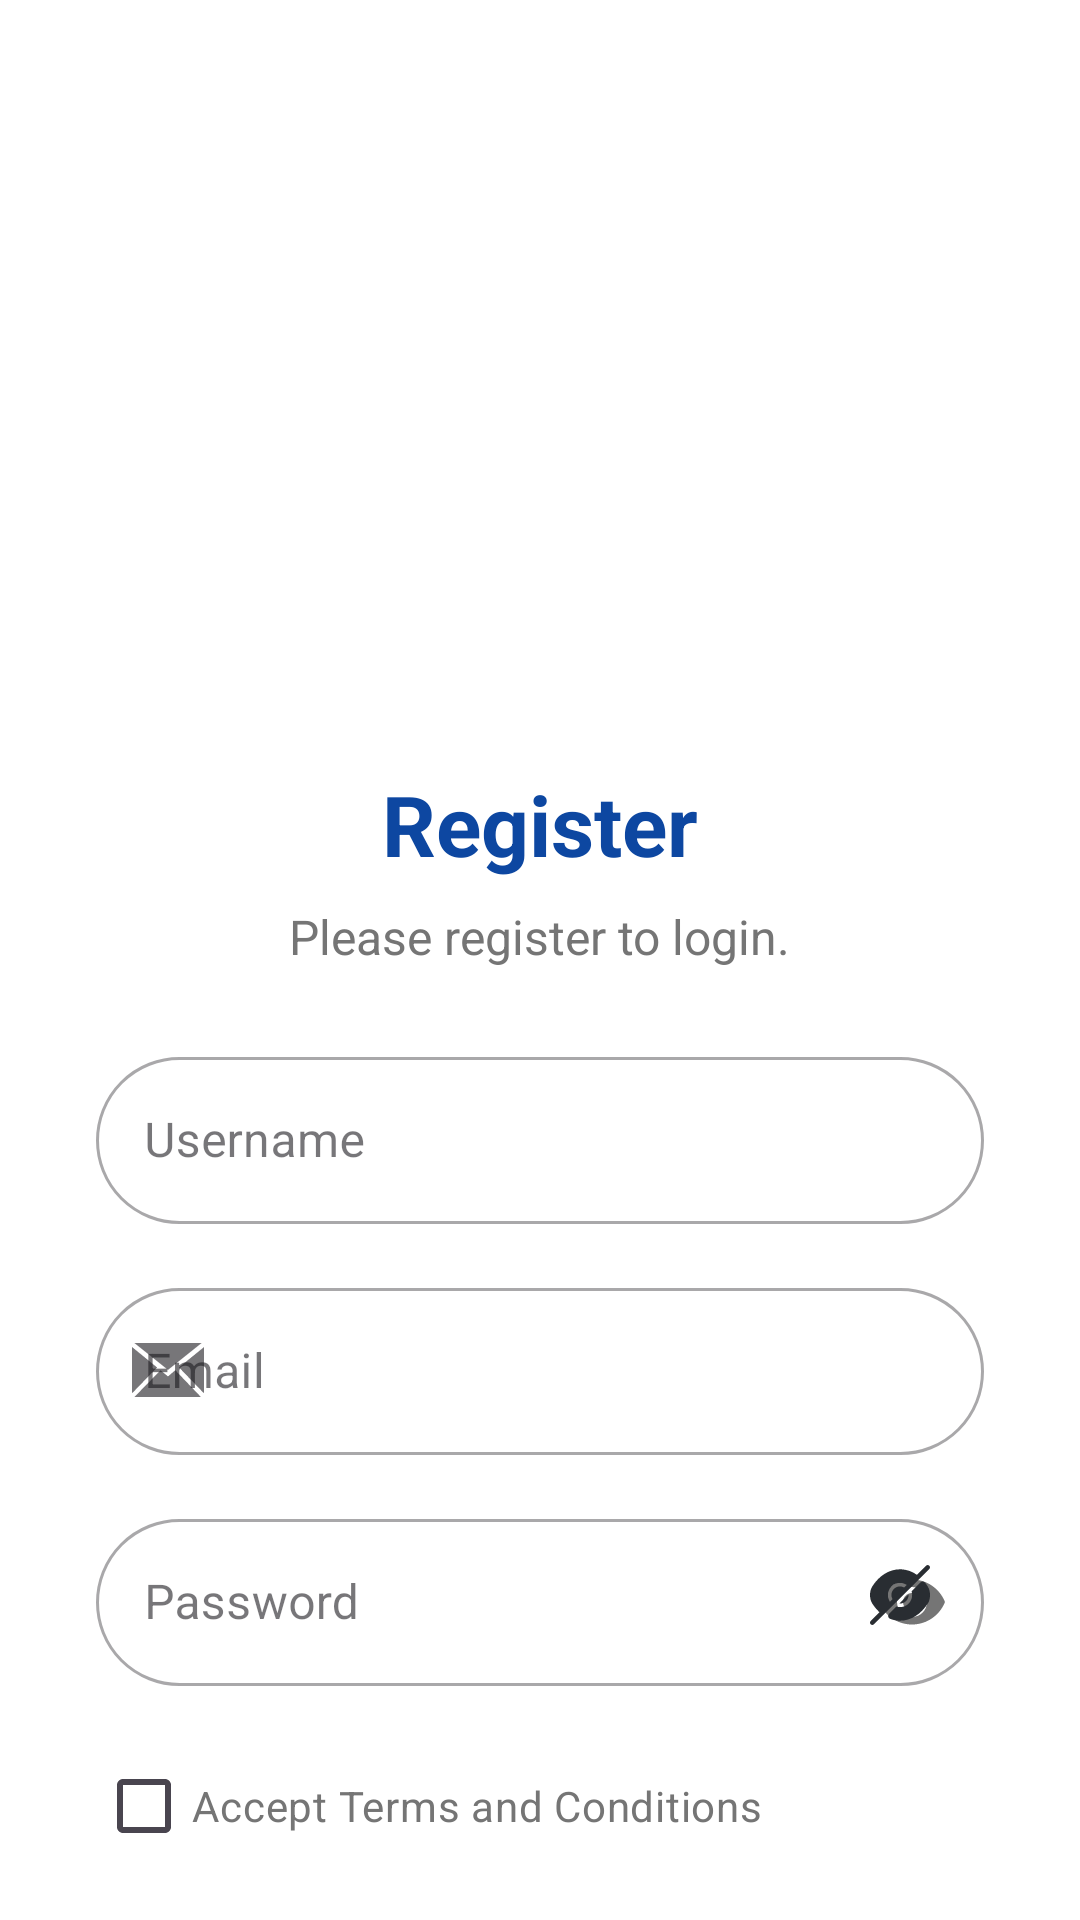

Named icons in this screenshot (1080px×1920px) and their centers, point (x, y):
eye closed: point (903, 1595)
